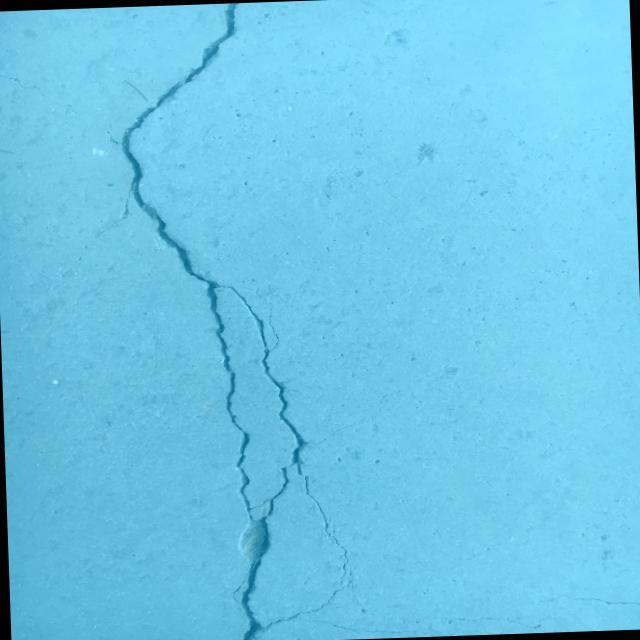crack: (68, 0, 435, 640), (513, 590, 640, 611), (0, 68, 58, 107), (448, 614, 540, 632), (62, 262, 81, 273), (537, 614, 556, 622), (52, 280, 66, 288)
